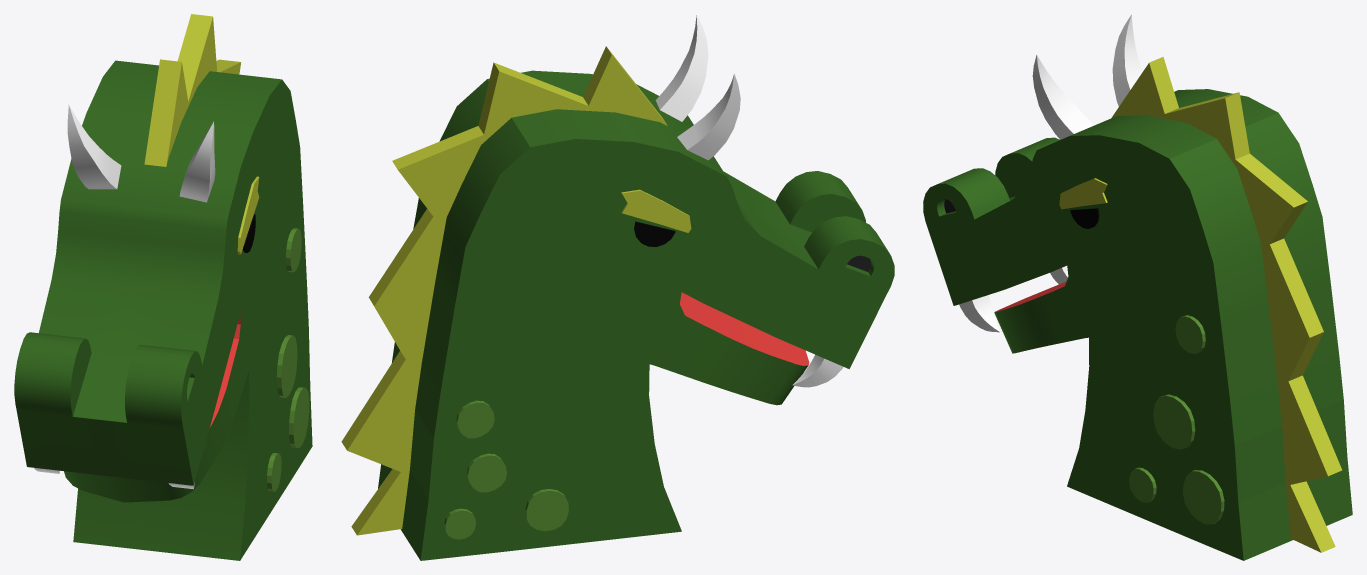
The model's file is dragon_face.glb.
The picture shows the model from 3 angles, left to right: view 1: azimuth 30°, elevation 25°; view 2: azimuth 150°, elevation 25°; view 3: azimuth 270°, elevation 25°; orthographic projection. The views are drawn at different scales.
Parts seen in each view (by area): view 1: Cube.086; view 2: Cube.086; view 3: Cube.086.
Part boxes in pixels (bbox=[...]): Cube.086: bbox=[14, 14, 312, 560]; Cube.086: bbox=[341, 14, 894, 560]; Cube.086: bbox=[923, 14, 1352, 560].
Bounding box in the file's own units: 1.98 × 2.13 × 1.98.
Materials: 1 (1 with a texture image).
